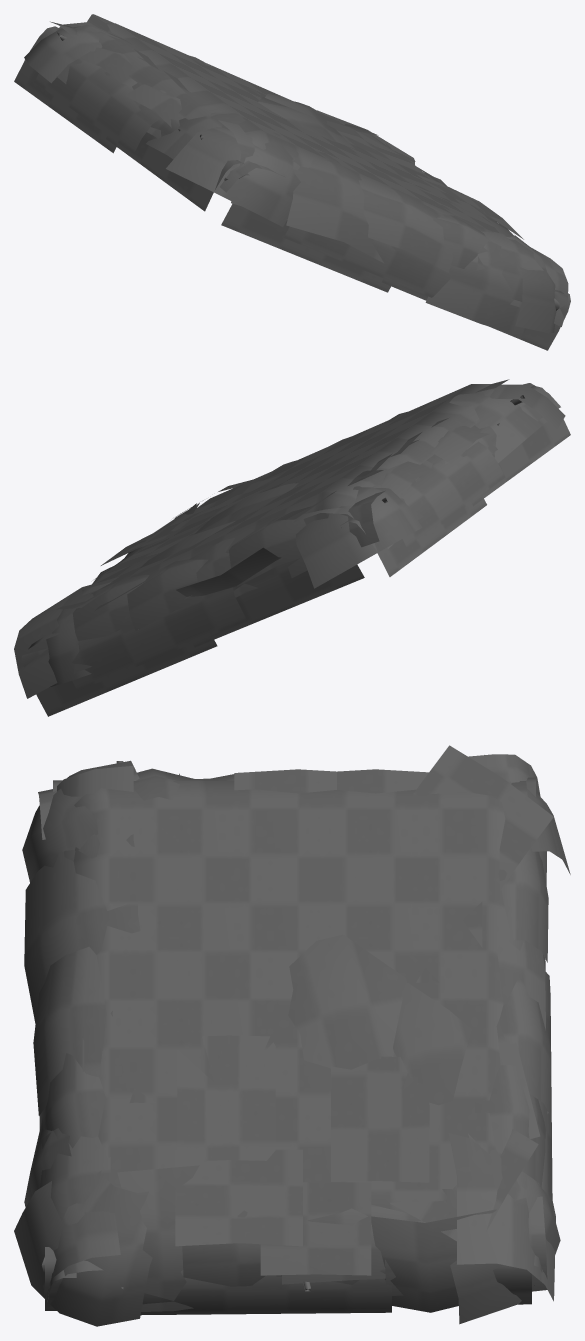
The model's file is ThatchRoof_SM_C.glb.
3 views of the same model, one above another, from view 1: azimuth 30°, elevation 25°; view 2: azimuth 150°, elevation 25°; view 3: azimuth 270°, elevation 25° (orthographic). The views are drawn at different scales.
Visible parts, largest first — view 1: SlopedThatchRoof_Model; view 2: SlopedThatchRoof_Model; view 3: SlopedThatchRoof_Model.
Part boxes in pixels (x1,y1,x2,y2): SlopedThatchRoof_Model: [14, 14, 570, 350]; SlopedThatchRoof_Model: [14, 379, 570, 716]; SlopedThatchRoof_Model: [14, 745, 570, 1326].
Bounding box in the file's own units: 3.55 × 2.52 × 3.36.
1 material, 1 textured.
